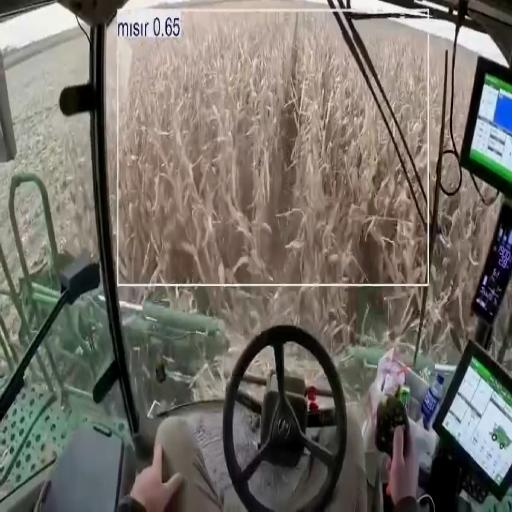misir: (106, 11, 426, 282), (359, 21, 443, 185), (200, 287, 356, 342)
